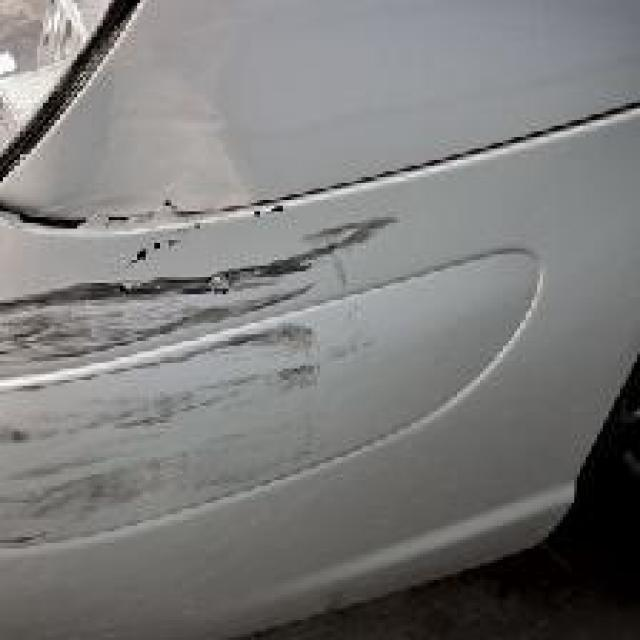damaged: (0, 200, 414, 557)
